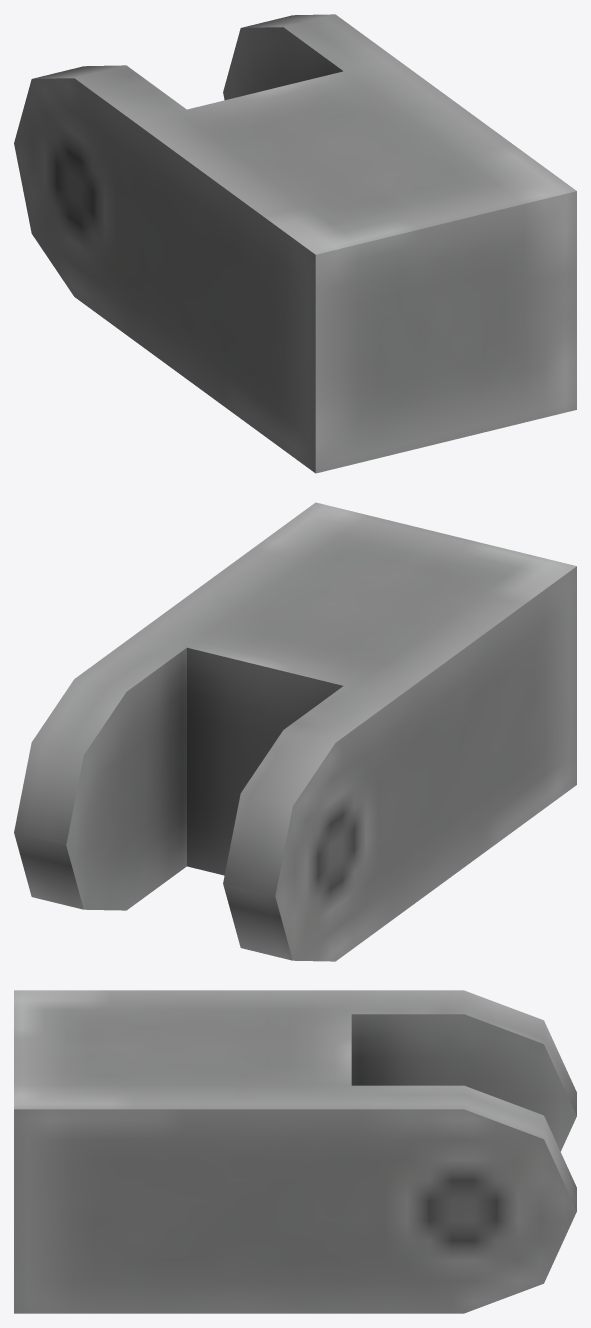
Rendered from octans_high_gain_antenna_srf_1_base.obj.
3 views of the same model, one above another, from view 1: azimuth 30°, elevation 25°; view 2: azimuth 150°, elevation 25°; view 3: azimuth 270°, elevation 25° (orthographic). The views are drawn at different scales.
Parts seen in each view (by area): view 1: mesh; view 2: mesh; view 3: mesh.
Boxes of the visible parts, x1=… form: mesh: x1=14, y1=14, x2=576, y2=473; mesh: x1=14, y1=502, x2=576, y2=961; mesh: x1=14, y1=990, x2=576, y2=1313.
Bounding box in the file's own units: 0.0625 × 0.05 × 0.125.
Materials: 1 (1 with a texture image).
